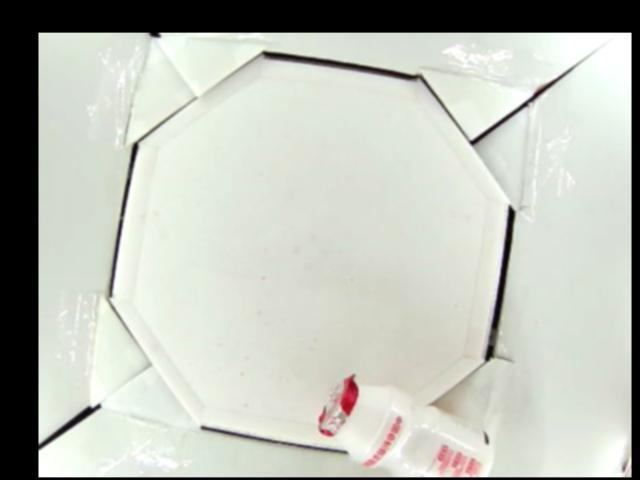Bottle: (318, 373, 495, 477)
